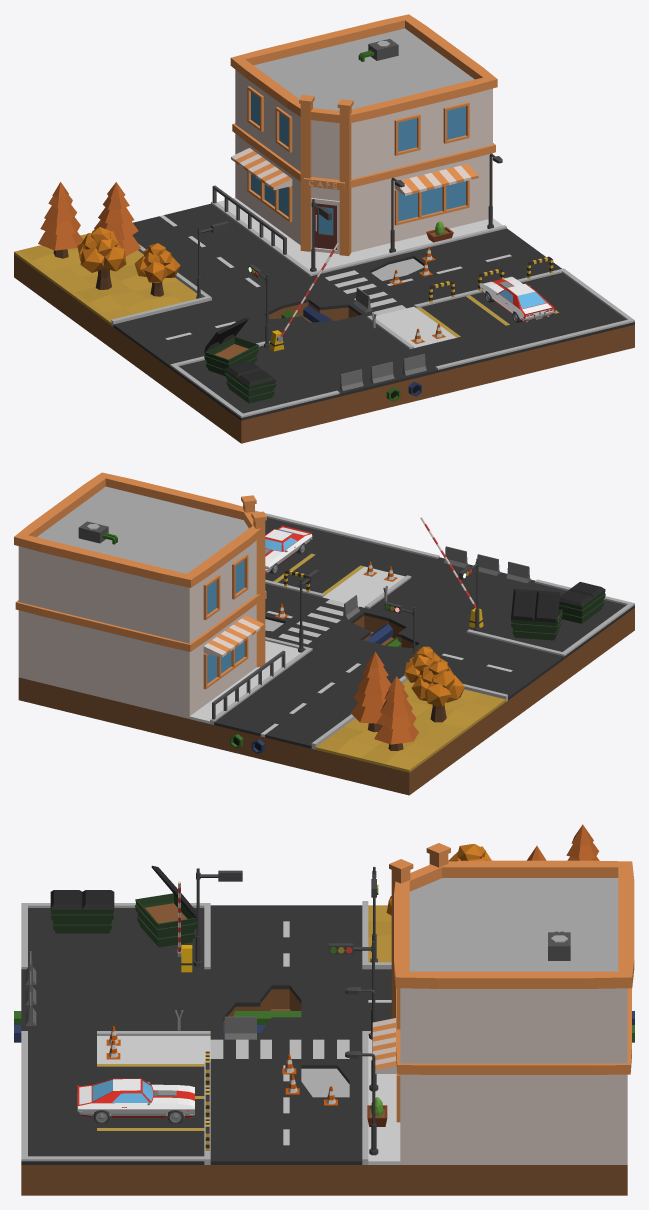
Rendered from city_pair_C2_tweaked.glb.
The picture shows the model from 3 angles, top to bottom: view 1: azimuth 30°, elevation 25°; view 2: azimuth 150°, elevation 25°; view 3: azimuth 270°, elevation 25°; orthographic projection. The views are drawn at different scales.
Parts seen in each view (by area): view 1: Plane_0, Plane.005_22, Plane.007_23, Car_31, Plane.008_2, Plane.006_1, Plane.009_3, Plane.002_12; view 2: Plane_0, Plane.008_2, Plane.005_22, Plane.007_23, Plane.006_1, Plane.009_3, Car_31, Plane.002_12; view 3: Plane_0, Car_31, Plane.009_3, Plane.008_2, Plane.016_8, Cube.002_13, Plane.005_22, Plane.010_17, Plane.015_7, Plane.007_23.
Boxes of the visible parts, x1,y1,x2,y2 form: Plane_0: (14,14,634,443); Plane.005_22: (38,182,82,258); Plane.007_23: (77,227,126,289); Car_31: (479,276,555,321); Plane.008_2: (204,318,258,375); Plane.006_1: (94,182,140,256); Plane.009_3: (225,361,276,403); Plane.002_12: (134,243,180,296); Plane_0: (14,472,634,795); Plane.008_2: (511,589,562,640); Plane.005_22: (374,676,418,750); Plane.007_23: (411,661,464,722); Plane.006_1: (350,651,390,732); Plane.009_3: (559,582,605,623); Car_31: (265,525,312,574); Plane.002_12: (404,646,447,682); Plane_0: (14,843,634,1195); Car_31: (76,1078,194,1118); Plane.009_3: (50,890,114,933); Plane.008_2: (135,865,196,947); Plane.016_8: (193,868,242,966); Cube.002_13: (224,1016,256,1039); Plane.005_22: (566,824,599,860); Plane.010_17: (345,1051,378,1155); Plane.015_7: (329,941,376,1039); Plane.007_23: (448,844,491,861).
Bounding box in the file's own units: 23.64 × 10.04 × 23.95.
